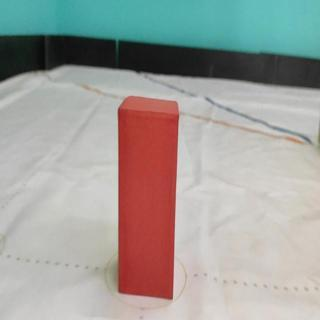redbox: (117, 95, 180, 298)
